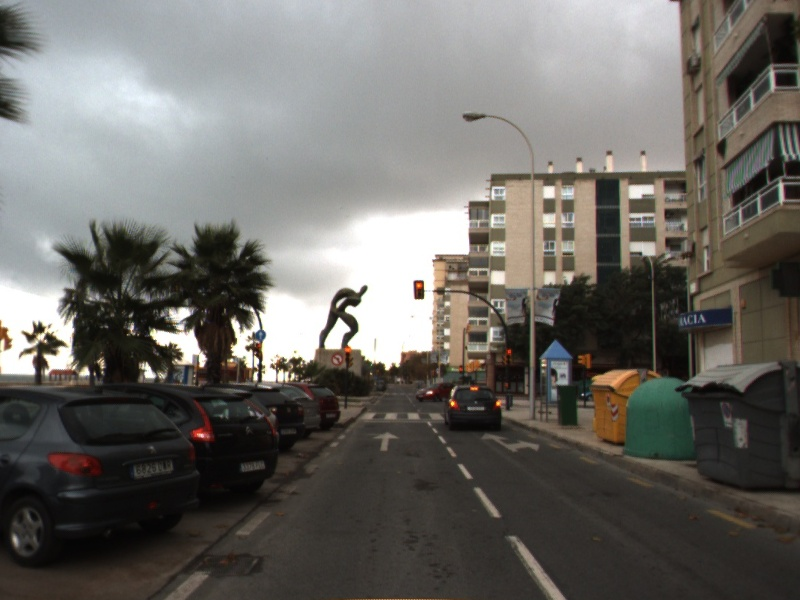STRAIGHT: (372, 430, 402, 452)
STRAIGHT_RIGHT: (479, 431, 542, 454)
